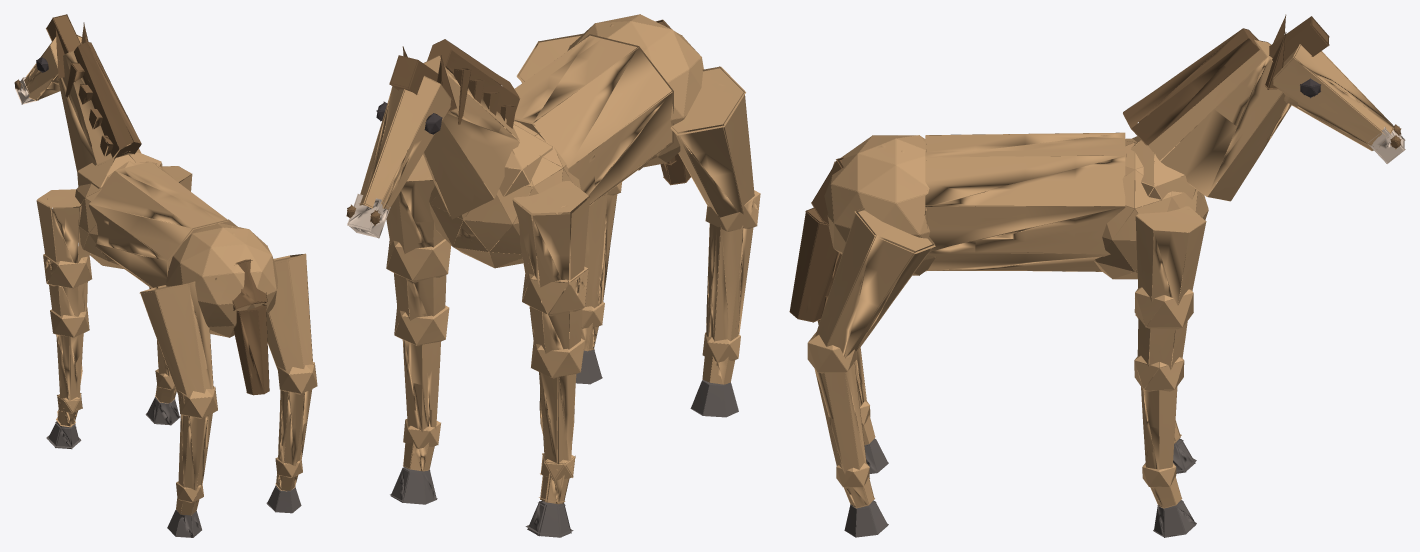
The model's file is horse.glb.
3 renders of one model, left to right at view 1: azimuth 30°, elevation 25°; view 2: azimuth 150°, elevation 25°; view 3: azimuth 270°, elevation 25°, orthographic. The views are drawn at different scales.
Parts seen in each view (by area): view 1: HorseBody; view 2: HorseBody; view 3: HorseBody.
Part boxes in pixels (x1,y1,x2,y2): HorseBody: (14, 14, 317, 537); HorseBody: (346, 14, 760, 537); HorseBody: (789, 14, 1405, 537).
Bounding box in the file's own units: 0.9204 × 2.17 × 2.53.
